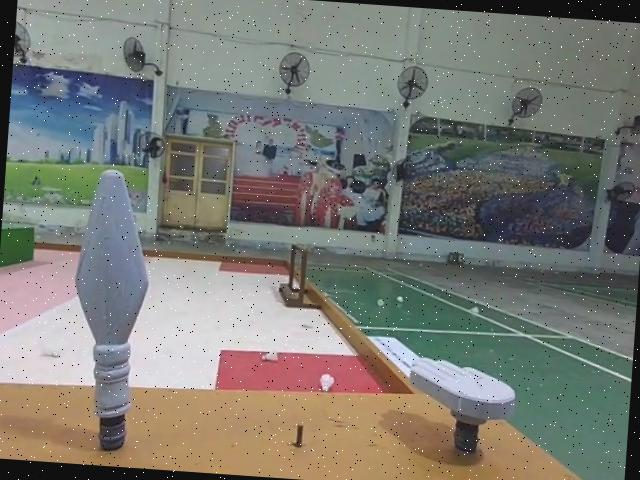Hand: (400, 352, 521, 461)
Sph: (60, 161, 156, 458)
